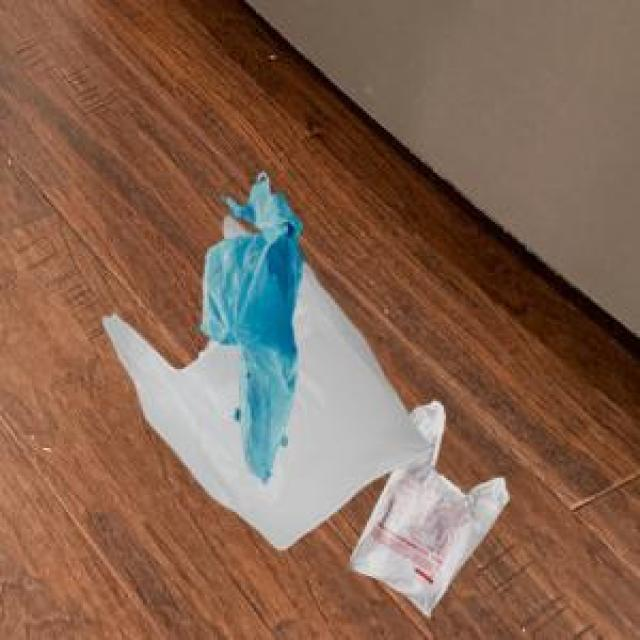waste: (104, 174, 509, 614)
